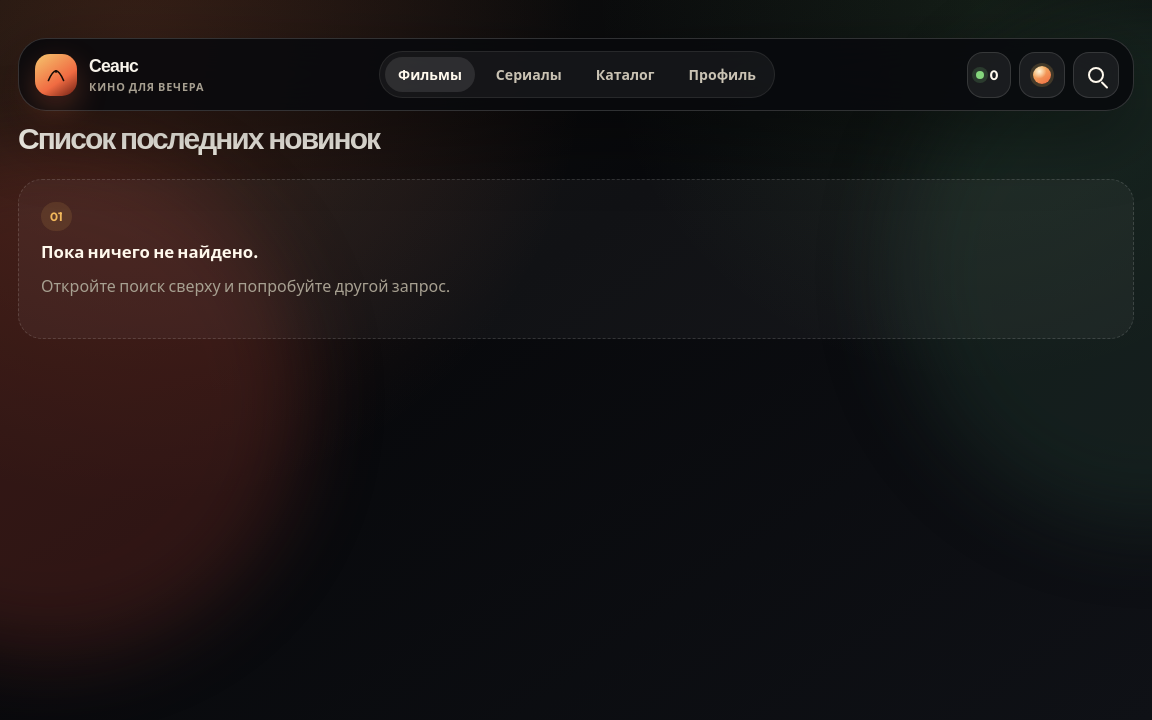
it: App › opens profile shelf films in a new tab
(page scrolled)
What coordinates should you click on to do the following:
click the button "Профиль"
I would click on:
 (722, 74)
Its box is [676,57,769,92].
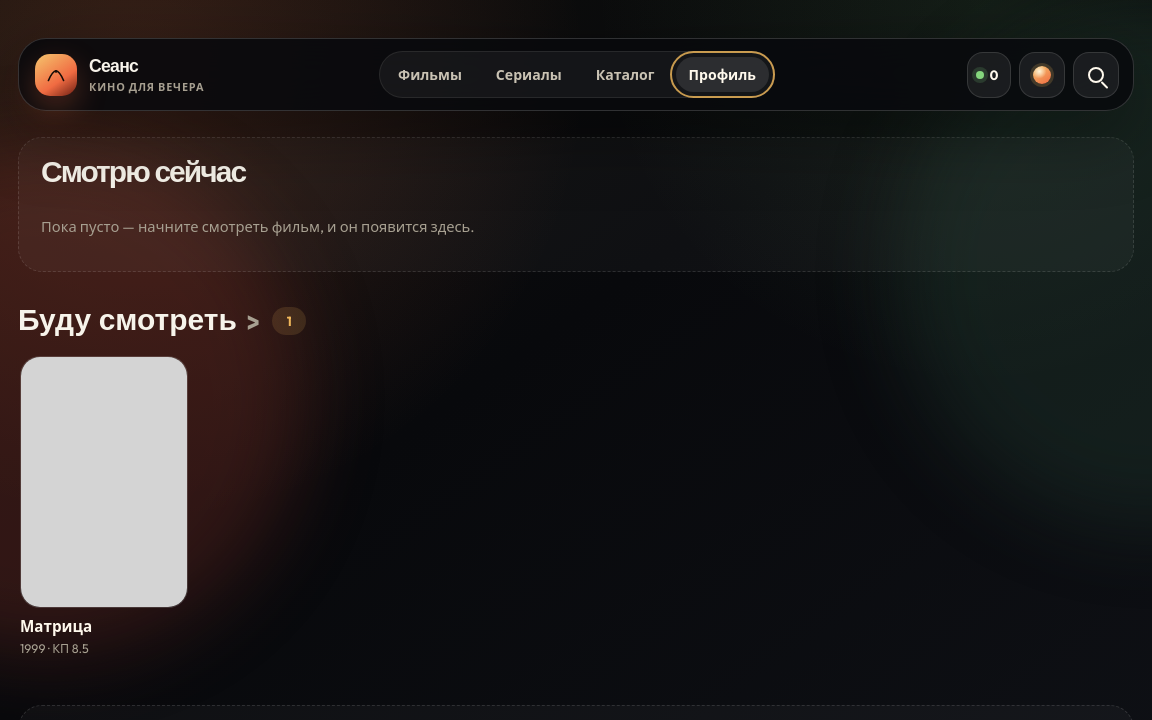
Now the button "Буду смотреть" is shown, box [18,306,260,336]
